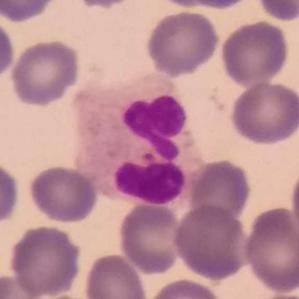Neutrophil: (66, 70, 205, 205)
RBC: (171, 202, 251, 282), (9, 223, 85, 298), (8, 36, 82, 108), (240, 204, 299, 294), (116, 200, 185, 276), (144, 9, 221, 77), (218, 19, 291, 87), (227, 79, 299, 146), (26, 163, 100, 225), (187, 158, 254, 223), (82, 251, 149, 299), (147, 276, 226, 299), (0, 158, 22, 228), (0, 0, 60, 24), (0, 272, 46, 298), (0, 14, 17, 83), (156, 0, 257, 11), (254, 0, 299, 23), (61, 0, 144, 11), (288, 163, 299, 241)
